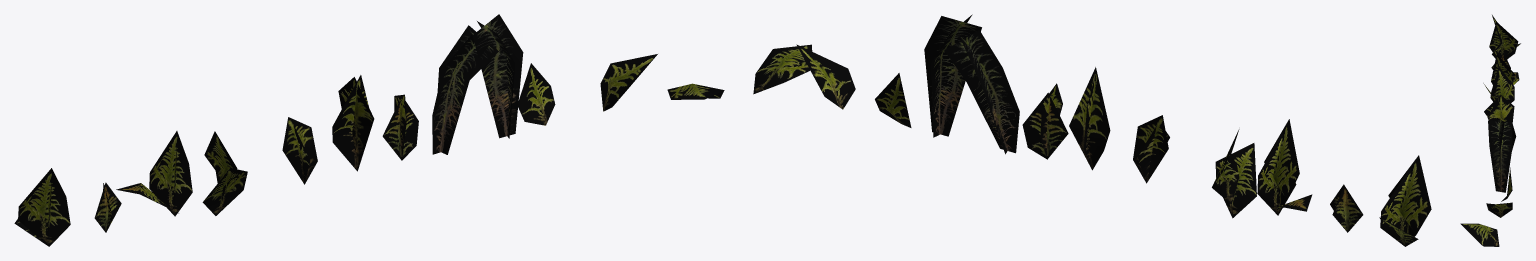
File: moss-01-lod2.glb
3 views of the same model, side by side, from view 1: azimuth 30°, elevation 25°; view 2: azimuth 150°, elevation 25°; view 3: azimuth 270°, elevation 25° (orthographic). The views are drawn at different scales.
Parts seen in each view (by area): view 1: moss_01_c_LOD0; view 2: moss_01_c_LOD0; view 3: moss_01_c_LOD0.
Boxes of the visible parts, x1=… form: moss_01_c_LOD0: x1=14, y1=14, x2=724, y2=246; moss_01_c_LOD0: x1=753, y1=14, x2=1431, y2=246; moss_01_c_LOD0: x1=1460, y1=15, x2=1520, y2=246.
Bounding box in the file's own units: 0.2153 × 0.0396 × 0.0294.
1 material, 1 textured.
